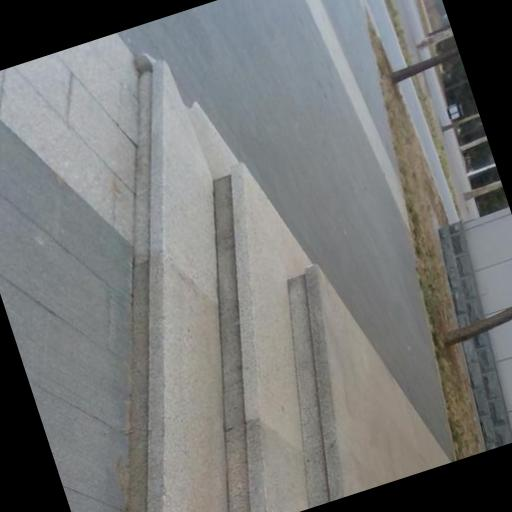stairs: (127, 61, 447, 511)
